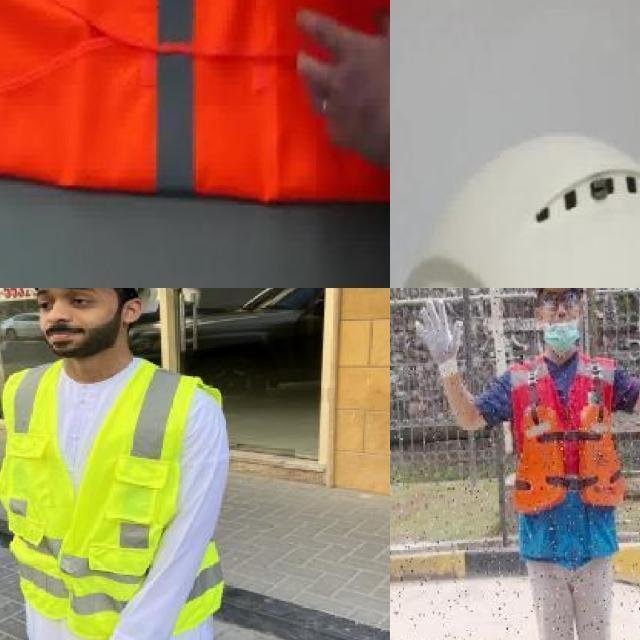apron: (413, 296, 462, 380)
